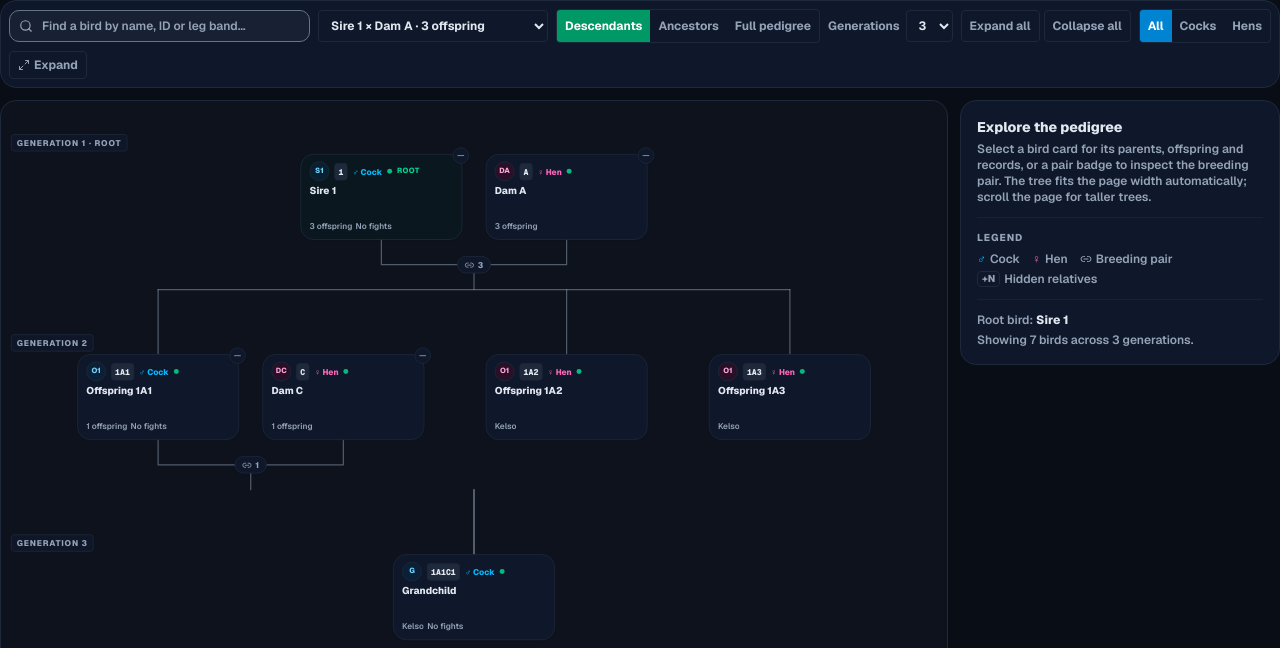
Test: LineageFlow pedigree canvas › finds a bird and re-roots the canvas, with a no-match state
In the field labelled "Find a bird": (160, 26) [9,10,310,42], type "Grandchild"
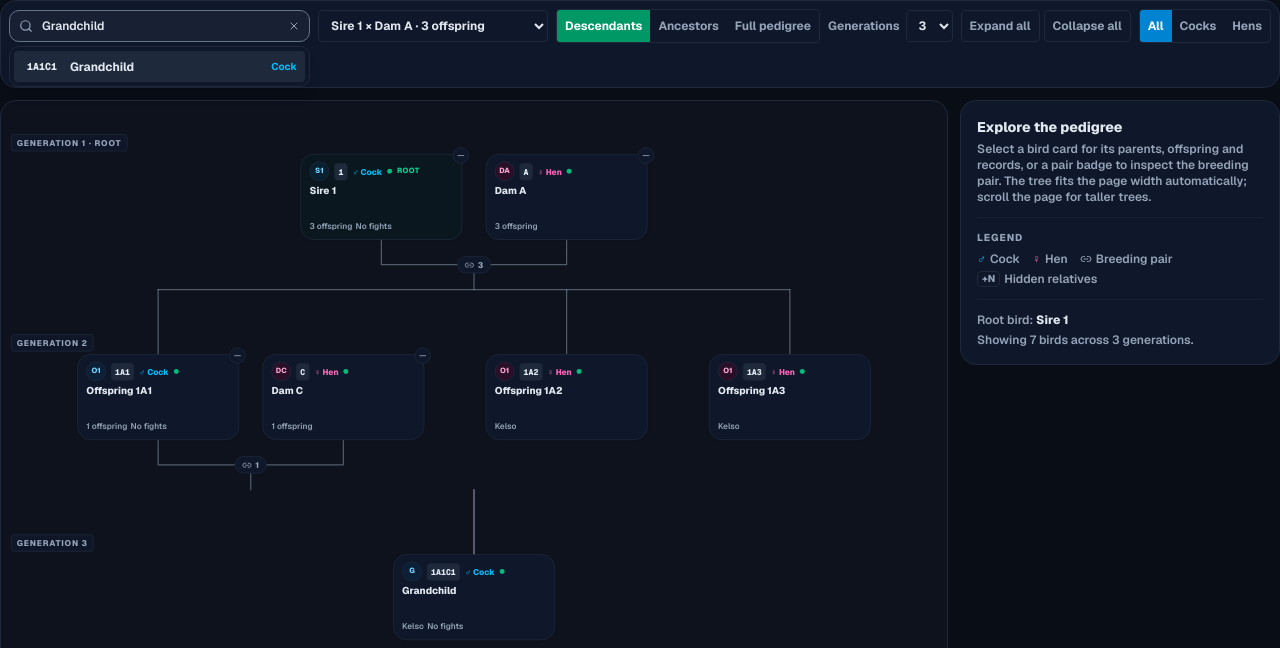
Press Enter in the field named "Find a bird", box [9,10,310,42]
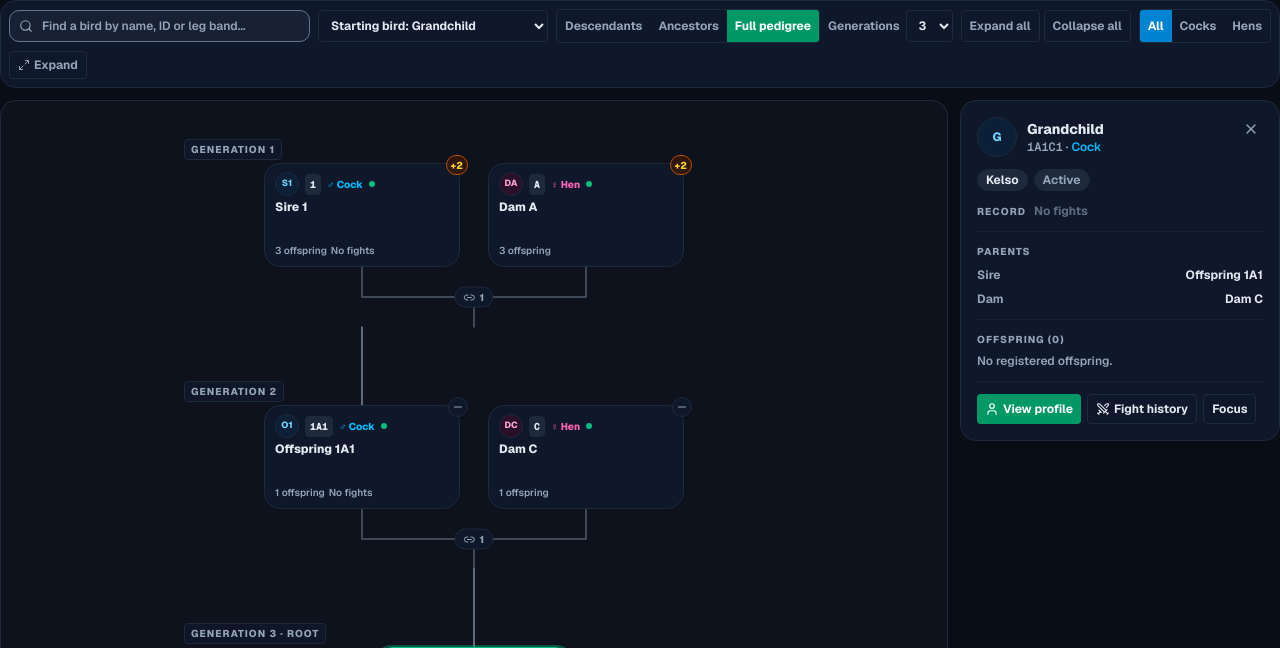
Now the element with test id "lineage-details" shows "Grandchild", box [1027,120,1104,138]
In the field labelled "Find a bird": (160, 26) [9,10,310,42], type "zzz"
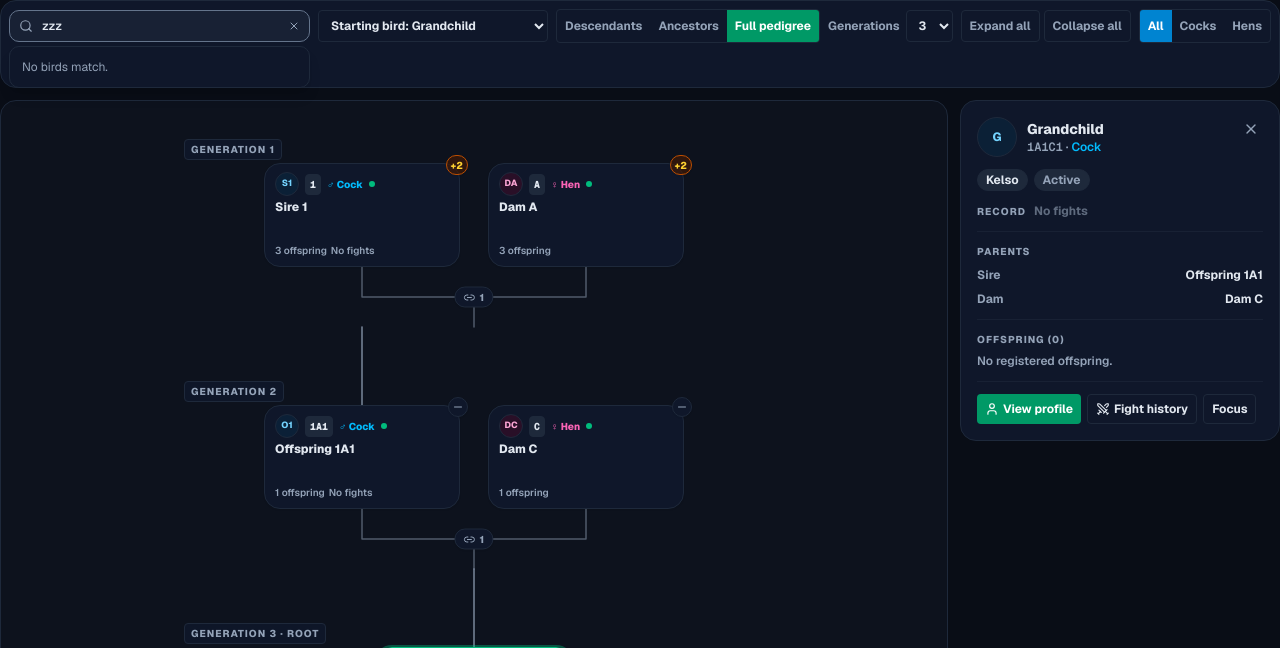
Now the text "No birds match." is shown, box [22,59,108,75]
